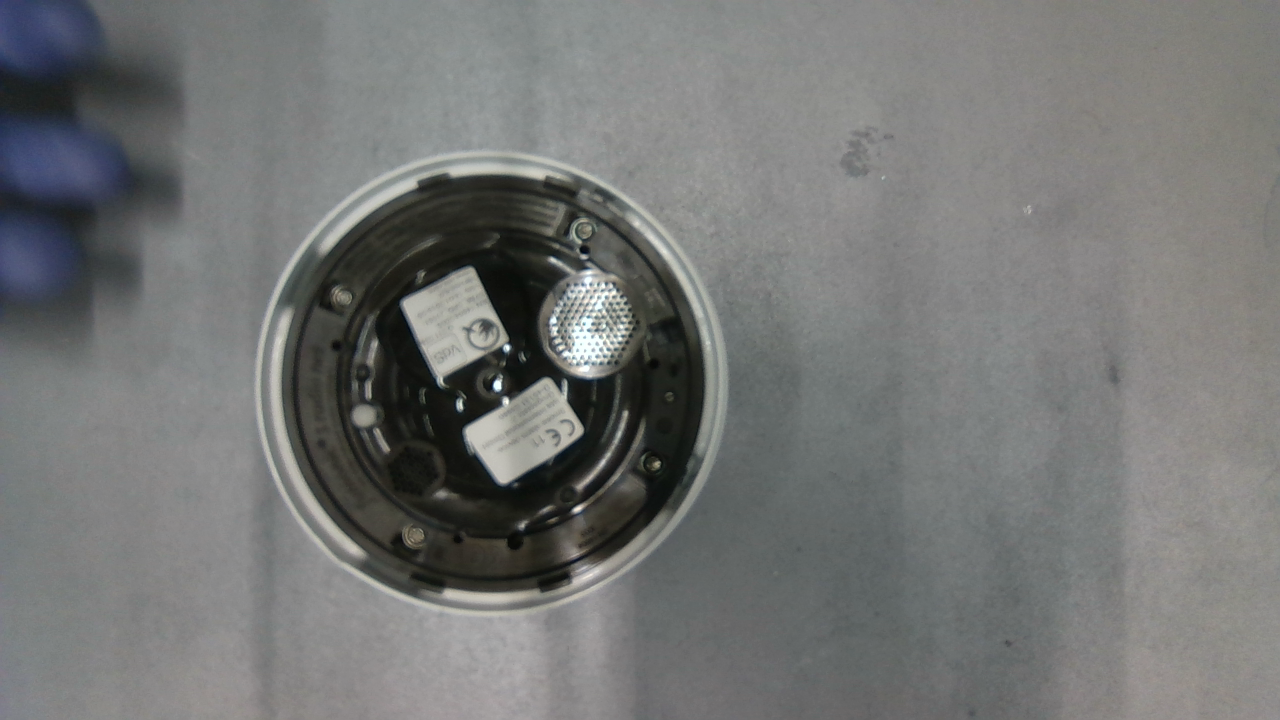HexScrew: (394, 522, 435, 553), (632, 449, 668, 481), (568, 215, 597, 248), (323, 282, 356, 309)
